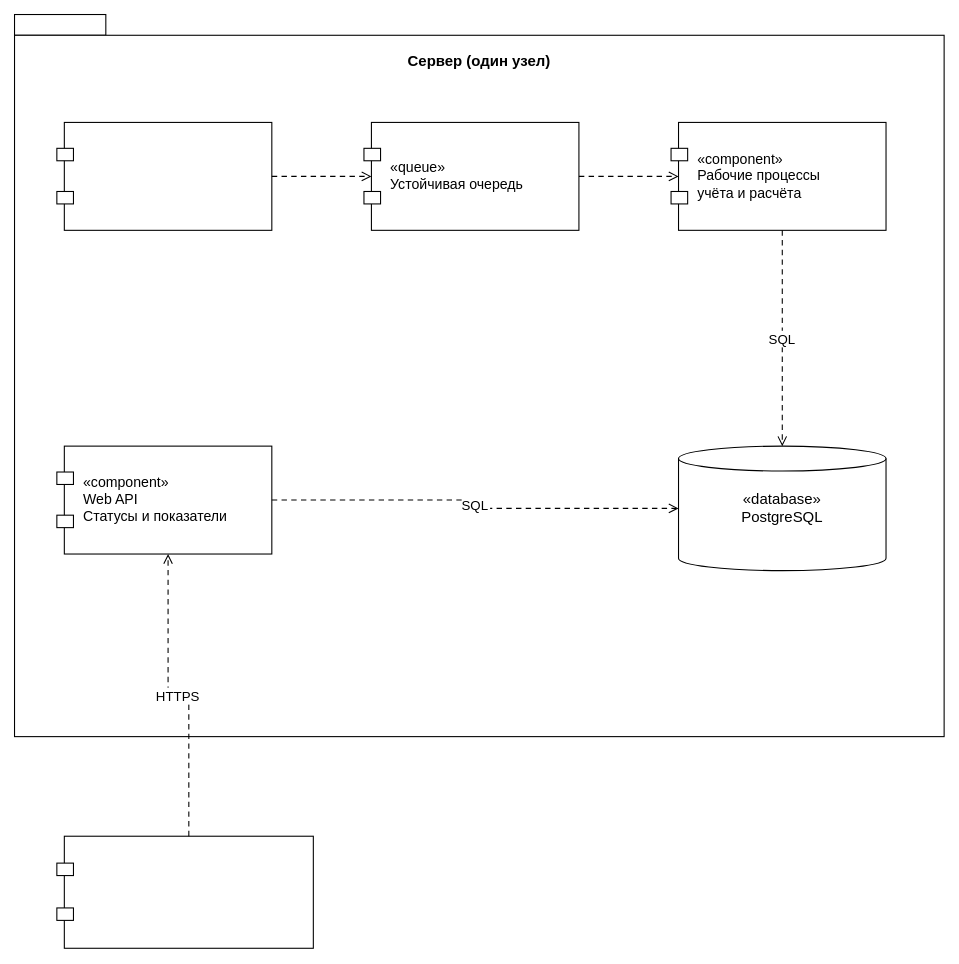
The diagram is 959 pixels wide and 964 high, and some of its shapes have lost their labels. The shapes that lost their labels are listed below. From the top down, each one's box as (x1, y1, x2, y2) in pixels, then its label:
(63, 122, 272, 230): «component» Приём / проверка
(63, 835, 313, 948): «device» Мобильные и веб-клиенты
